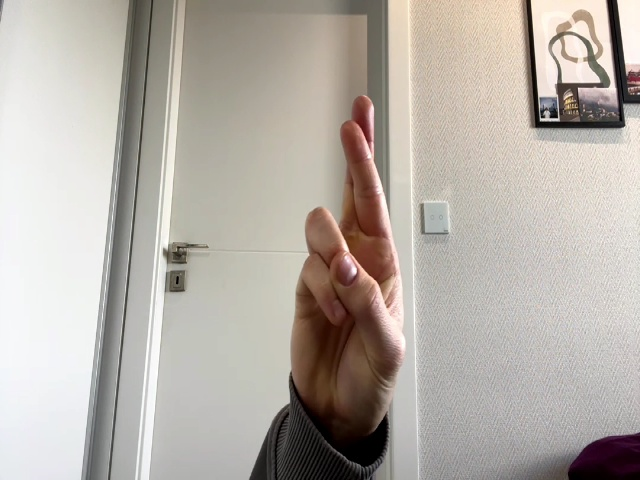R: (291, 96, 406, 424)
